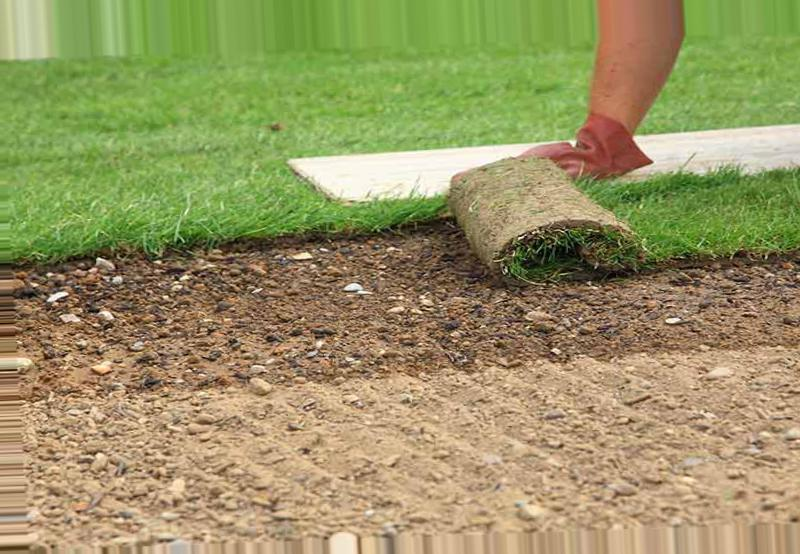patch: (250, 268, 474, 519), (32, 284, 260, 529), (499, 320, 756, 518), (589, 285, 768, 321)
